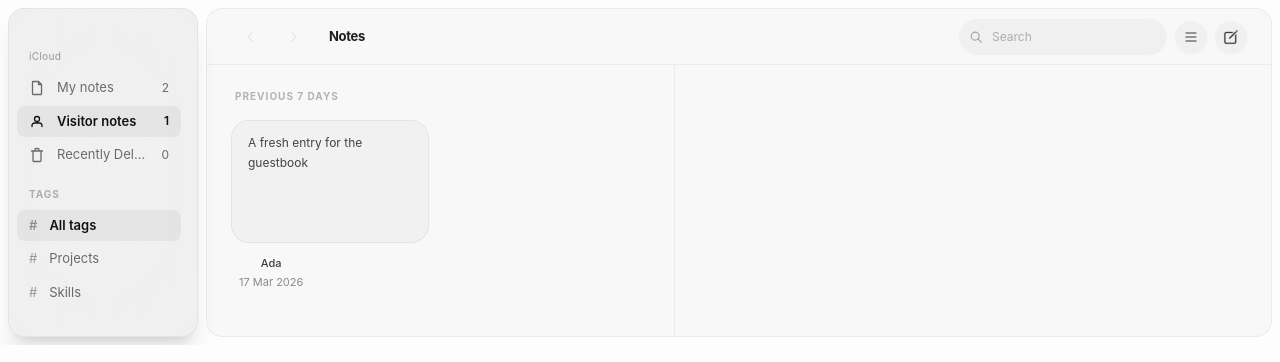
Test: NotesApp › switches the reading pane when a tile is selected
Click the button "My notes 2": (99, 88) x1=17 y1=72 x2=181 y2=104
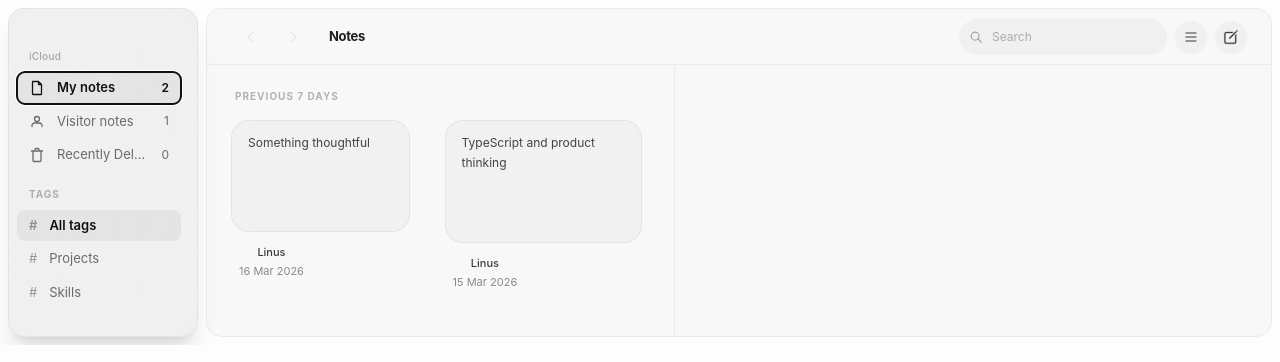
Click the button with aria-label "Open note Older note": (330, 205) x1=231 y1=120 x2=429 y2=290
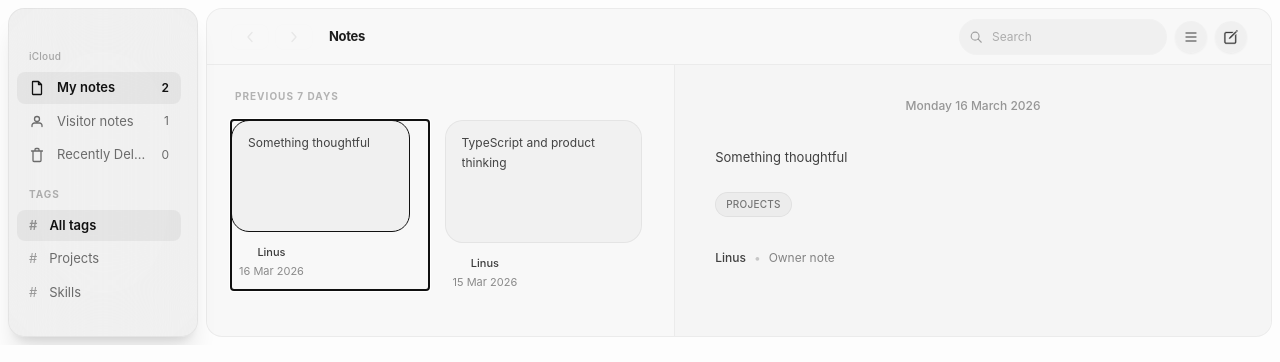
Expected: the text "Something thoughtful" below "Monday 16 March 2026" is shown, x1=715 y1=149 x2=847 y2=165
Expected: the text "Linus" next to "Owner note" is shown, x1=715 y1=250 x2=746 y2=265
